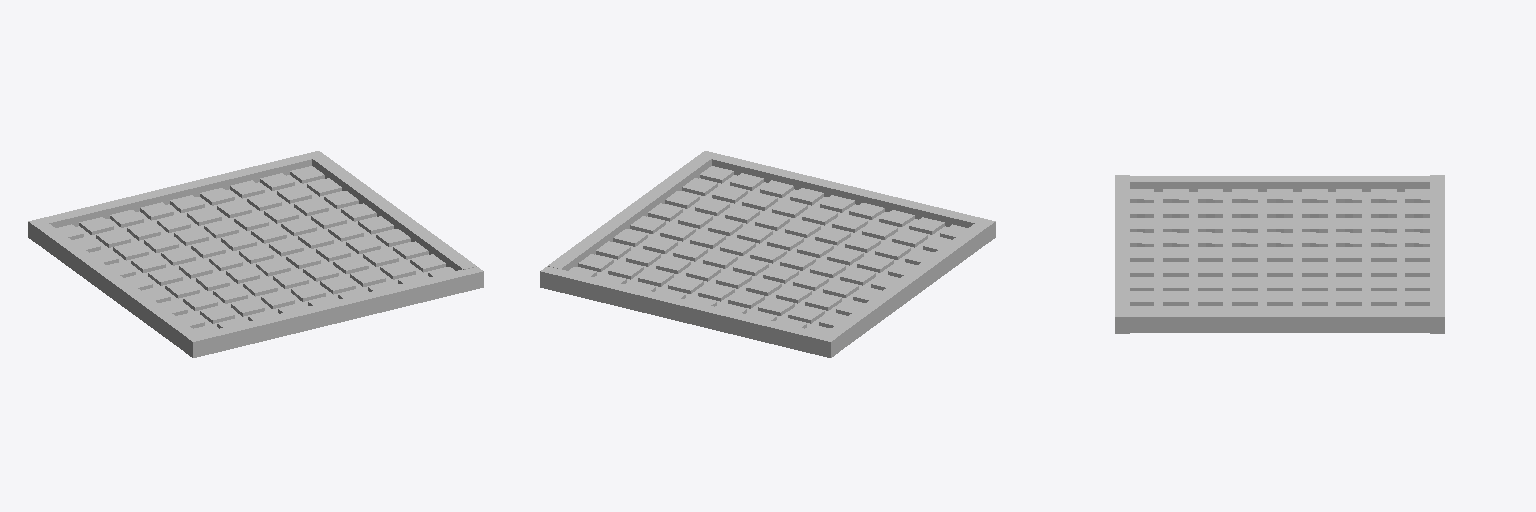
File: BOARDx3.obj
3 renders of one model, left to right at view 1: azimuth 30°, elevation 25°; view 2: azimuth 150°, elevation 25°; view 3: azimuth 270°, elevation 25°, orthographic.
Parts seen in each view (by area): view 1: Box016, Plane001, Box014, Box017, Box006, Box010, Box007, Box011, Box008, Box009, Box005, Box003 (+2 smaller); view 2: Box017, Plane001, Box014, Box016, Box005, Box008, Box009, Box011, Box007, Box010, Box006, Box012 (+2 smaller); view 3: Plane001, Box015, Box014, Box007, Box005, Box006, Box008, Box009, Box011, Box003, Box010, Box012 (+2 smaller).
Boxes of the visible parts, x1,y1,x2,y2 form: Box016: [186, 267, 483, 357]; Plane001: [75, 175, 446, 329]; Box014: [36, 223, 199, 352]; Box017: [28, 151, 324, 242]; Box006: [108, 203, 376, 277]; Box010: [160, 241, 428, 315]; Box007: [90, 191, 358, 264]; Box011: [177, 254, 445, 328]; Box008: [125, 216, 393, 290]; Box009: [142, 229, 410, 302]; Box005: [73, 178, 341, 252]; Box003: [56, 166, 324, 239]; Box017: [540, 266, 837, 357]; Plane001: [578, 175, 950, 329]; Box014: [824, 223, 988, 352]; Box016: [700, 151, 995, 242]; Box005: [578, 254, 847, 327]; Box008: [630, 216, 899, 290]; Box009: [648, 203, 915, 277]; Box011: [682, 178, 950, 251]; Box007: [596, 241, 863, 315]; Box010: [665, 191, 933, 264]; Box006: [613, 229, 881, 302]; Box012: [700, 166, 967, 239]; Plane001: [1142, 192, 1419, 309]; Box015: [1128, 310, 1430, 332]; Box014: [1127, 176, 1430, 191]; Box007: [1336, 189, 1361, 309]; Box005: [1371, 189, 1396, 309]; Box006: [1302, 189, 1327, 309]; Box008: [1267, 189, 1292, 309]; Box009: [1232, 189, 1257, 309]; Box011: [1163, 189, 1188, 309]; Box003: [1405, 189, 1429, 309]; Box010: [1198, 189, 1222, 309]; Box012: [1130, 189, 1153, 309].
Size of the model in its own units: 280 by 18.53 by 275.